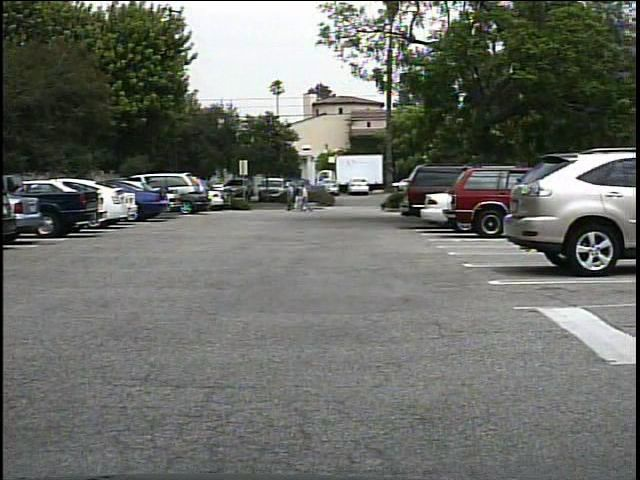person: (297, 182, 316, 213), (282, 184, 297, 213), (299, 184, 300, 215)
